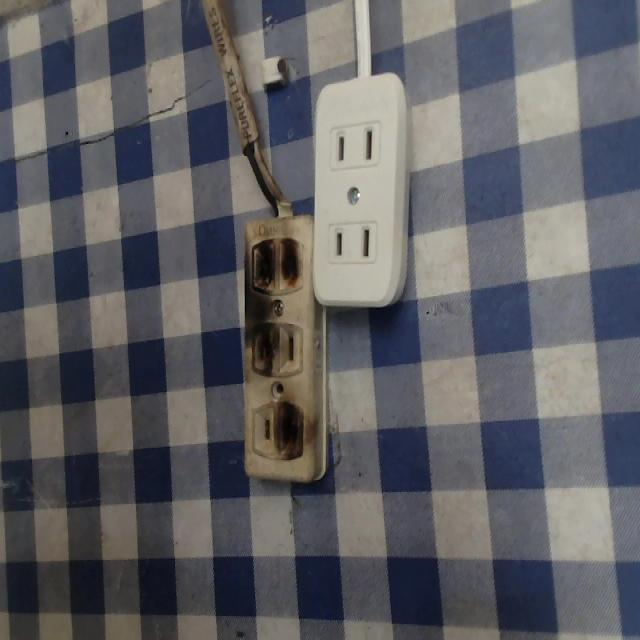-: (276, 399, 315, 469), (252, 234, 300, 290), (247, 314, 279, 370)
